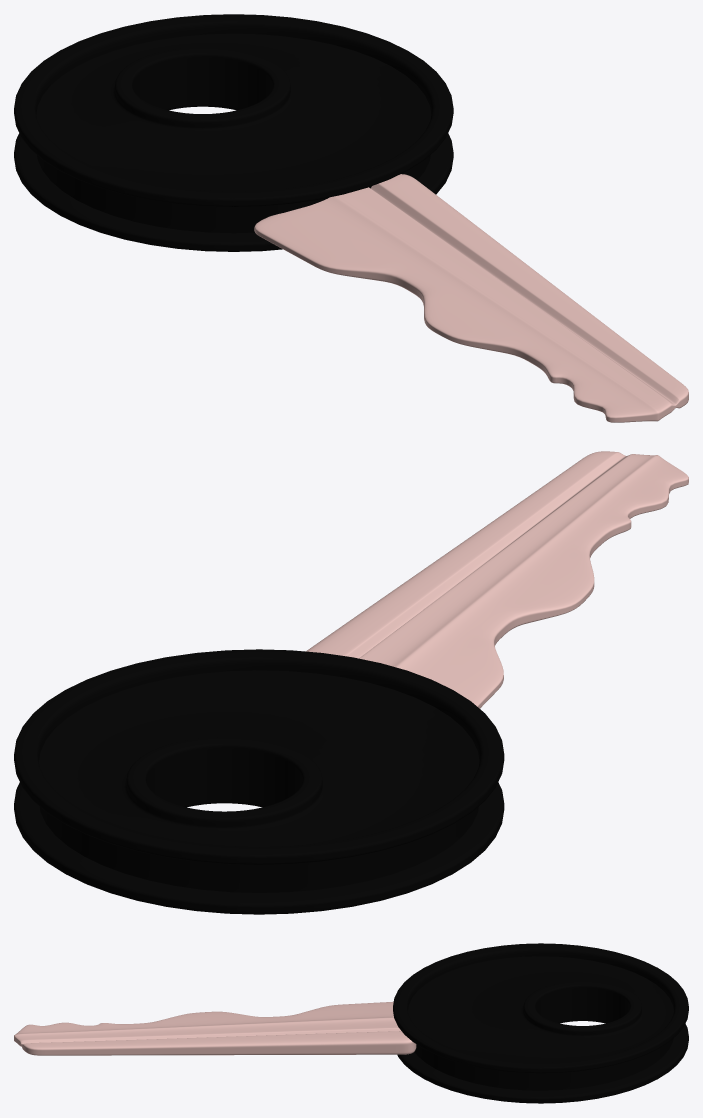
File: black_key.fbx
3 views of the same model, one above another, from view 1: azimuth 30°, elevation 25°; view 2: azimuth 150°, elevation 25°; view 3: azimuth 270°, elevation 25° (orthographic). The views are drawn at different scales.
Visible parts, largest first — view 1: Circle; view 2: Circle; view 3: Circle.
Part boxes in pixels (x1,y1,x2,y2): Circle: (14, 14, 688, 422); Circle: (14, 451, 688, 914); Circle: (14, 943, 688, 1103).
Size of the model in its own units: 436 by 191 by 25.96.
